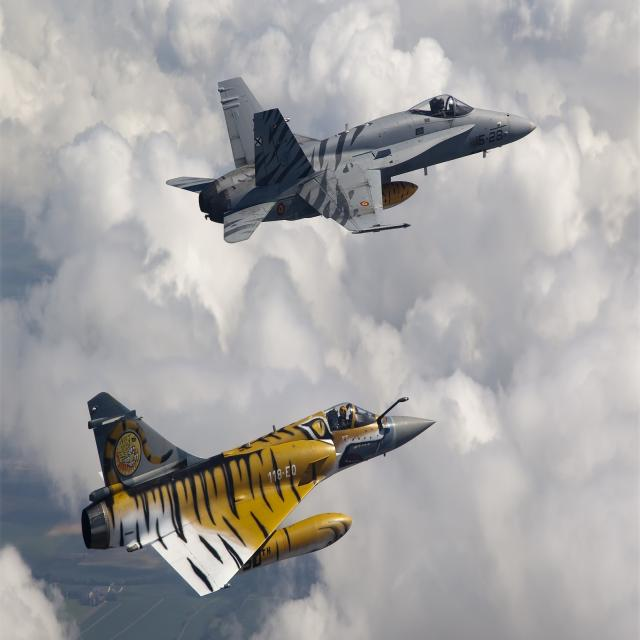MIL_Plane: (81, 392, 436, 597), (166, 76, 536, 244)
